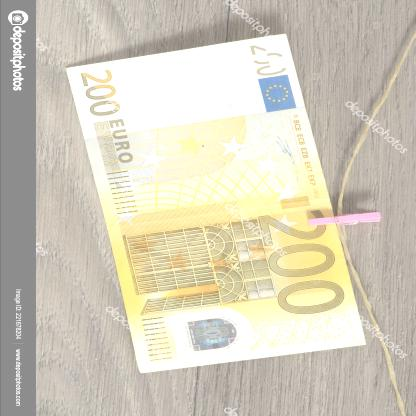euro_banknote: (48, 94, 388, 321)
